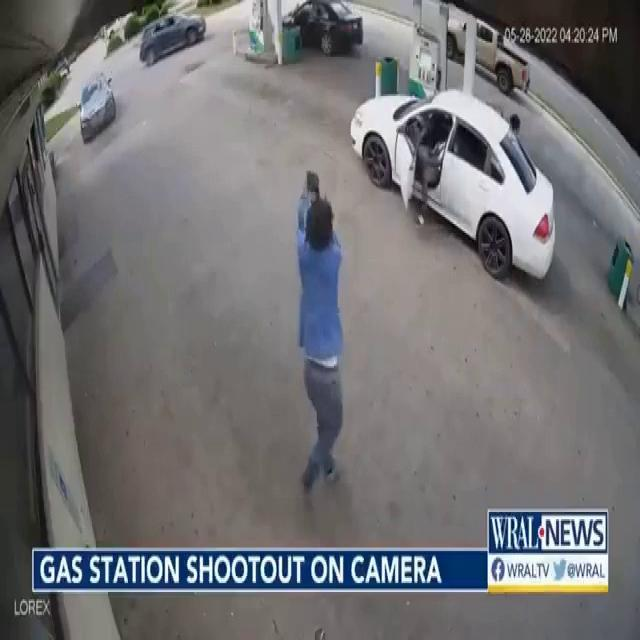penembakan: (286, 167, 349, 491)
